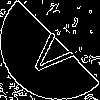V: (25, 25, 82, 82)
